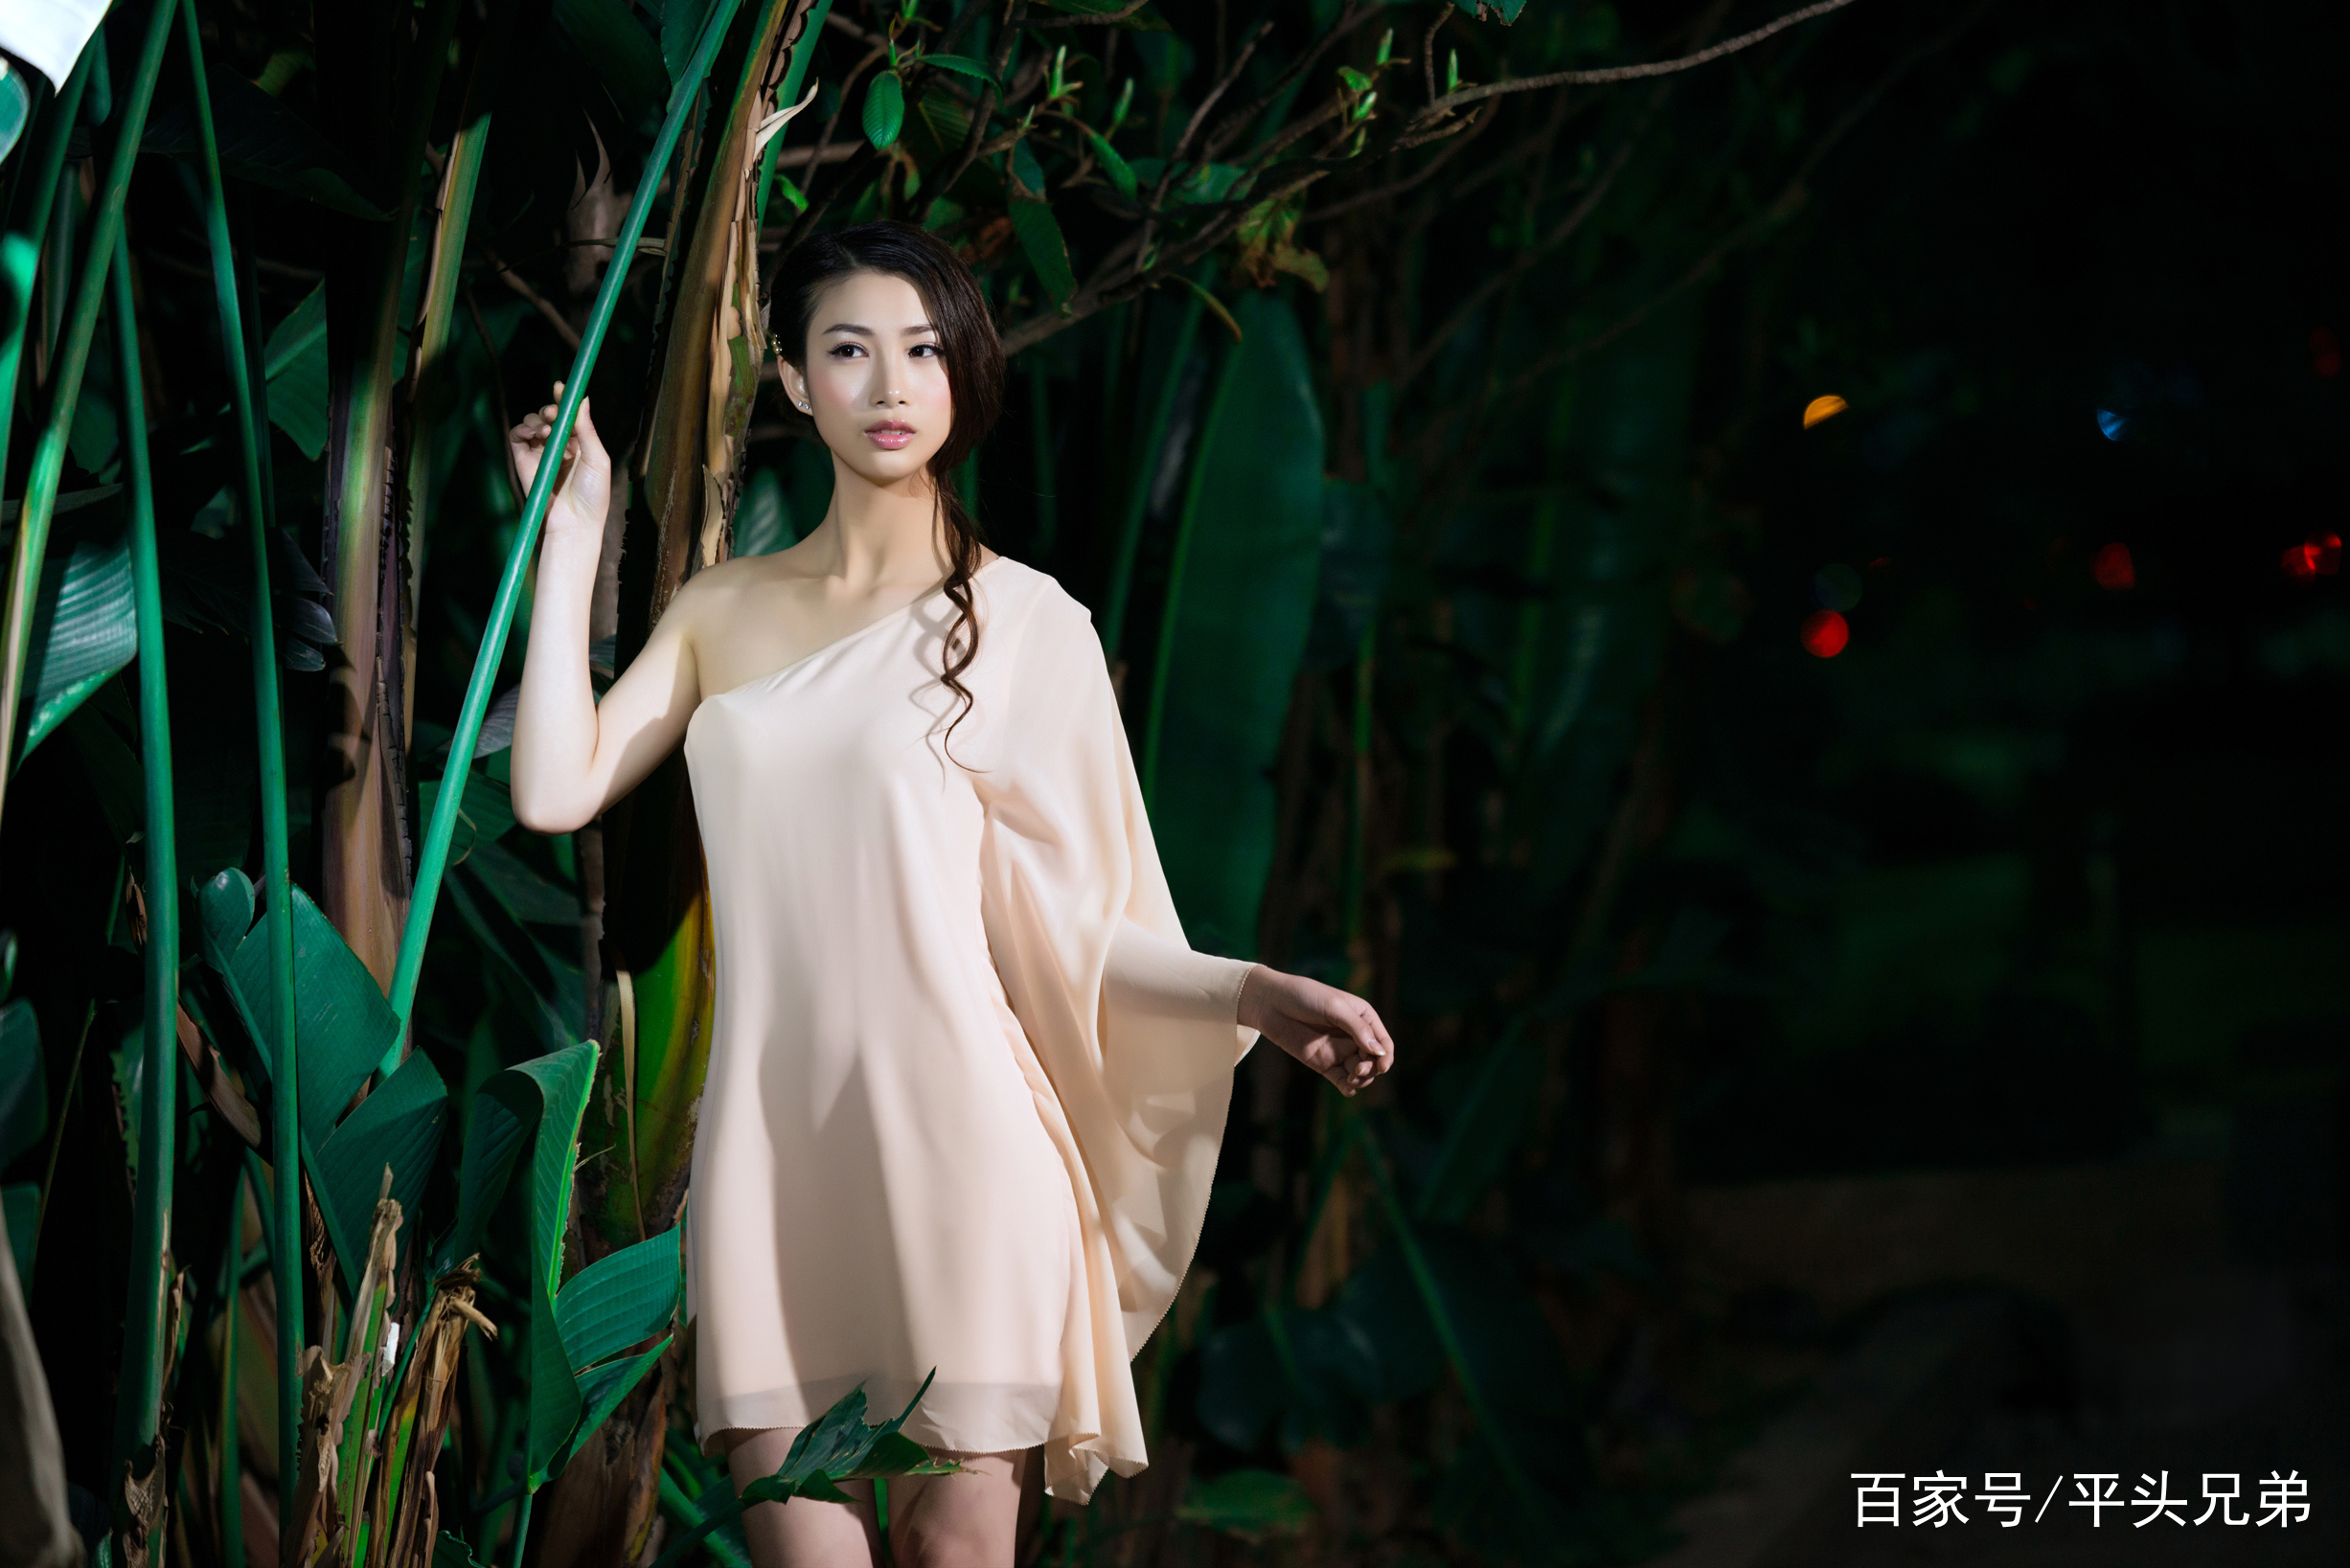person: (618, 225, 1258, 936)
